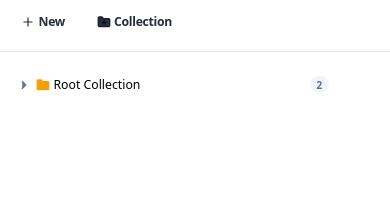
Scenario: StrandExplorer › expands collection on double click
Step 1. Double-click the text "Root Collection" → (97, 84), box left=54, top=76, right=140, bottom=93
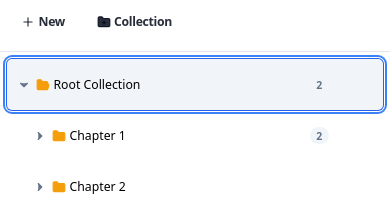
Expected: the text "Chapter 1" is shown, left=70, top=127, right=126, bottom=144
Expected: the text "Chapter 2" is shown, left=70, top=178, right=126, bottom=195
